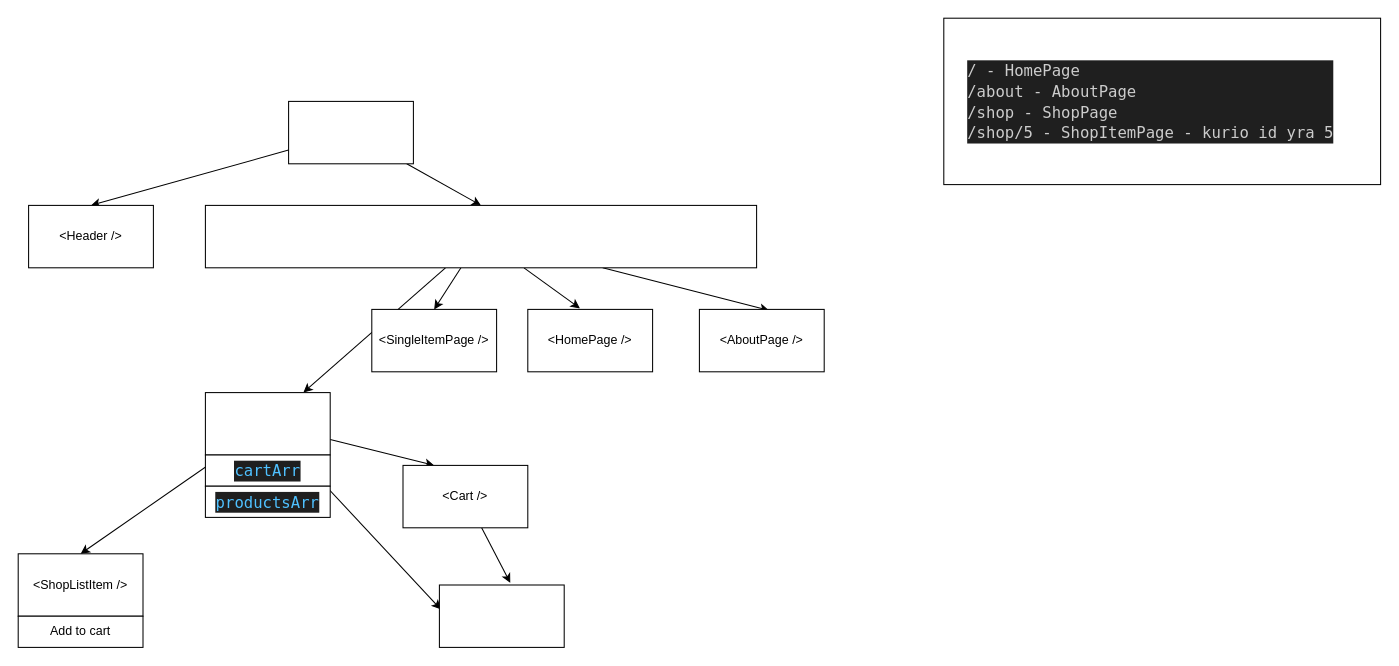
Some shapes in this 1399 by 666 pixel diagram are drawn without their labels. Each missing label, with the centre of its shape:
"<App />" goes at (350,132).
"<CartItem />" goes at (501,615).
"<Routes />" goes at (480,236).
"<ShopPage />" goes at (267,423).
